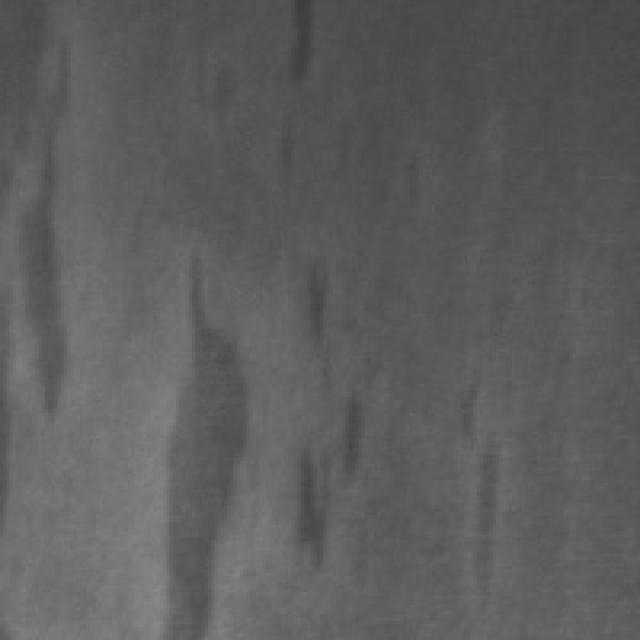inclusion: (154, 244, 252, 630), (0, 0, 90, 419), (285, 362, 371, 572), (442, 365, 508, 611), (285, 250, 339, 380), (269, 0, 323, 96)
